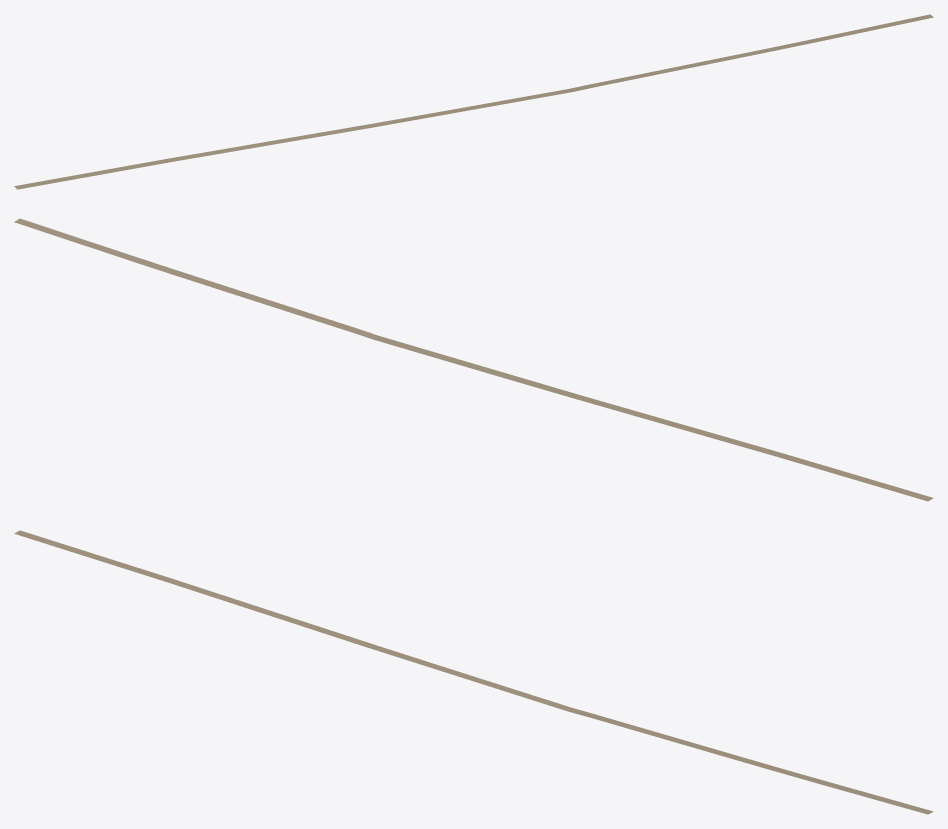
The model's file is farm_19_19_track.glb.
3 renders of one model, top to bottom at view 1: azimuth 30°, elevation 25°; view 2: azimuth 150°, elevation 25°; view 3: azimuth 330°, elevation 25°, orthographic. The views are drawn at different scales.
Parts seen in each view (by area): view 1: geometry_0; view 2: geometry_0; view 3: geometry_0.
Part boxes in pixels (<box>): geometry_0: <box>14,14,933,189</box>; geometry_0: <box>14,218,933,501</box>; geometry_0: <box>14,530,933,814</box>.
Bounding box in the file's own units: 366 × 2.96 × 41.48.
